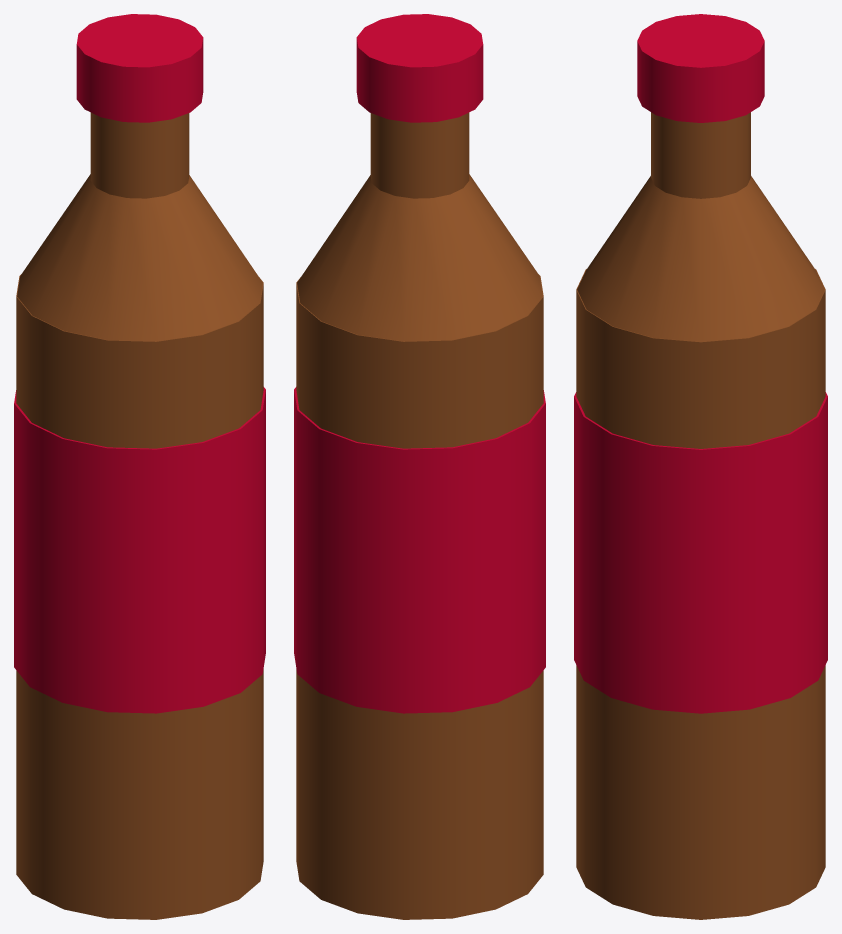
The model's file is PET_Bottle_Prototype.fbx.
3 views of the same model, side by side, from view 1: azimuth 30°, elevation 25°; view 2: azimuth 150°, elevation 25°; view 3: azimuth 270°, elevation 25° (orthographic).
Parts seen in each view (by area): view 1: PET_Bottle_Prototype_Amber, PET_Bottle_Prototype_Red; view 2: PET_Bottle_Prototype_Amber, PET_Bottle_Prototype_Red; view 3: PET_Bottle_Prototype_Amber, PET_Bottle_Prototype_Red.
Part boxes in pixels (x1,y1,x2,y2): PET_Bottle_Prototype_Amber: (16,112,263,919); PET_Bottle_Prototype_Red: (14,14,265,713); PET_Bottle_Prototype_Amber: (296,112,543,919); PET_Bottle_Prototype_Red: (294,14,545,713); PET_Bottle_Prototype_Amber: (576,112,825,919); PET_Bottle_Prototype_Red: (574,14,827,713).
Size of the model in its own units: 9.16 by 32.9 by 9.16.
